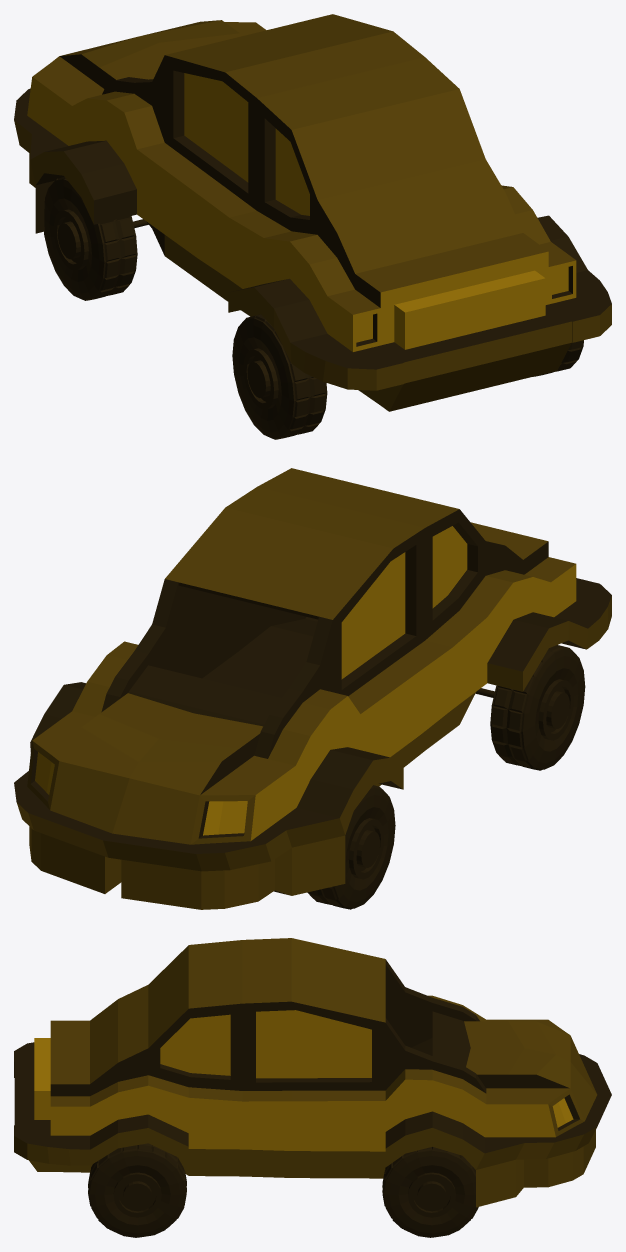
Rendered from Out_Class_Vehicle.fbx.
3 views of the same model, one above another, from view 1: azimuth 30°, elevation 25°; view 2: azimuth 150°, elevation 25°; view 3: azimuth 270°, elevation 25° (orthographic). The views are drawn at different scales.
Visible parts, largest first — view 1: Car_Blocks_FIX:Mesh; view 2: Car_Blocks_FIX:Mesh; view 3: Car_Blocks_FIX:Mesh.
Boxes of the visible parts, x1=… form: Car_Blocks_FIX:Mesh: x1=14, y1=14, x2=611, y2=439; Car_Blocks_FIX:Mesh: x1=14, y1=468, x2=611, y2=909; Car_Blocks_FIX:Mesh: x1=14, y1=938, x2=611, y2=1237.
Size of the model in its own units: 237 by 202 by 512.
